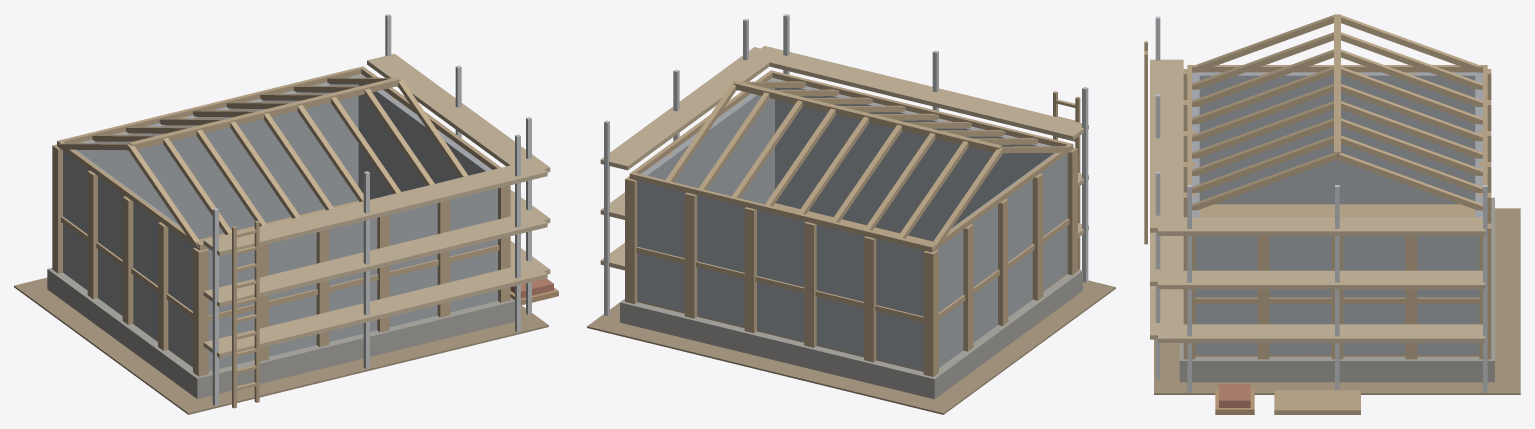
The model's file is garage_site_9.glb.
3 views of the same model, side by side, from view 1: azimuth 30°, elevation 25°; view 2: azimuth 150°, elevation 25°; view 3: azimuth 270°, elevation 25° (orthographic). The views are drawn at different scales.
Parts seen in each view (by area): view 1: body; view 2: body; view 3: body.
Boxes of the visible parts, x1,y1,x2,y2 form: body: (14, 14, 558, 414); body: (587, 14, 1115, 414); body: (1144, 14, 1520, 414).
Size of the model in its own units: 2.46 by 1.18 by 1.91.
